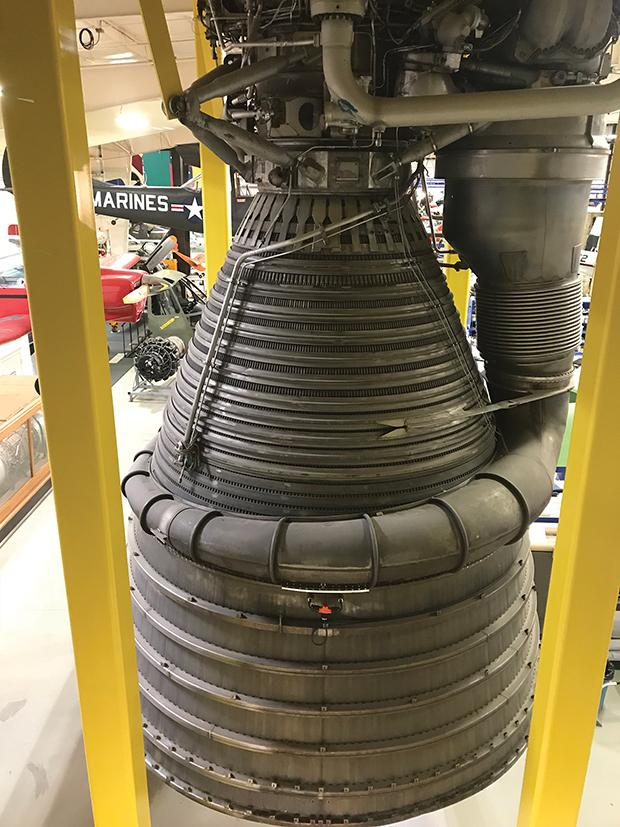thruster: (120, 195, 546, 827)
